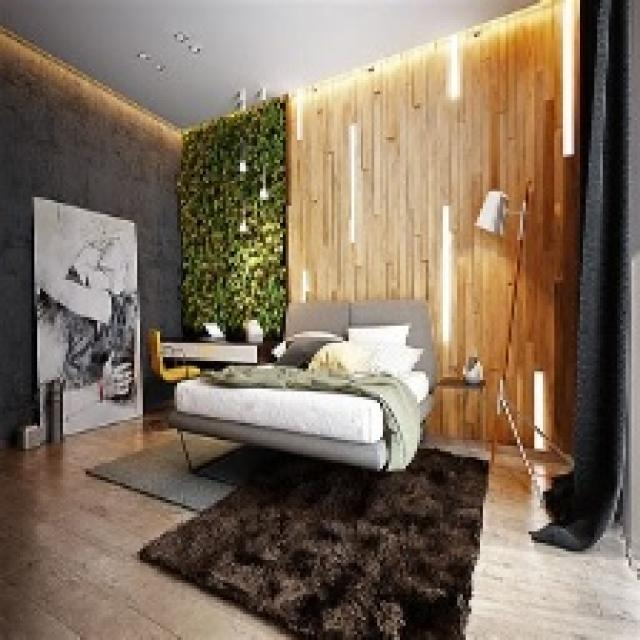Bed: (166, 297, 437, 477)
